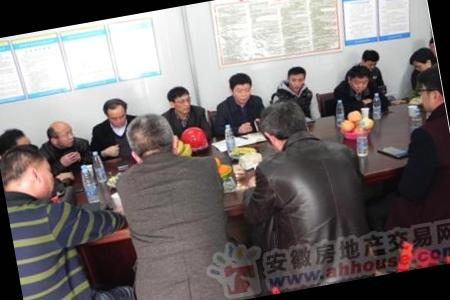no_helmet: (0, 140, 60, 204), (249, 93, 315, 151), (119, 107, 178, 162), (410, 63, 446, 120), (0, 122, 35, 165), (42, 114, 80, 150), (222, 69, 257, 106), (162, 81, 196, 118), (338, 62, 371, 98), (407, 44, 438, 82), (97, 94, 132, 127), (280, 61, 313, 95), (359, 45, 382, 75)
